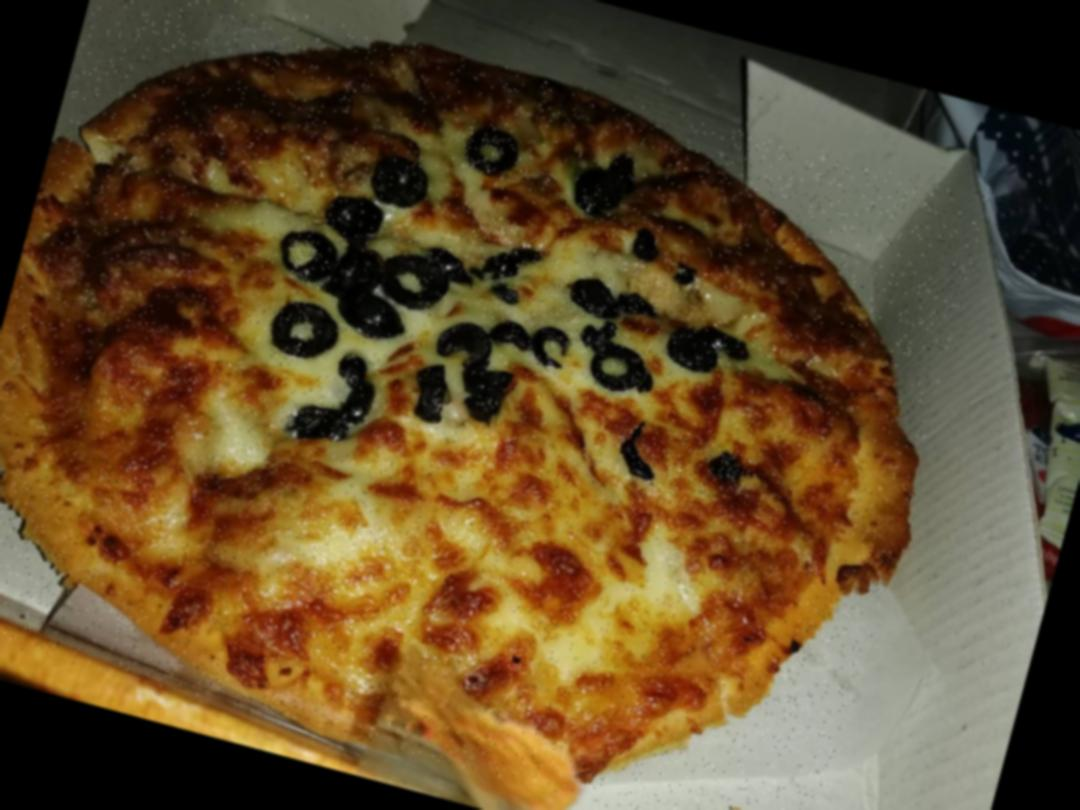Olives: (503, 273, 673, 406), (410, 304, 526, 431), (609, 420, 758, 510), (288, 342, 393, 458), (432, 208, 552, 298), (324, 246, 420, 340), (564, 134, 650, 231), (654, 306, 755, 382), (324, 168, 398, 251), (273, 300, 344, 378), (379, 245, 446, 316), (459, 121, 530, 185), (282, 225, 344, 294)
Pizza: (0, 0, 989, 810)
